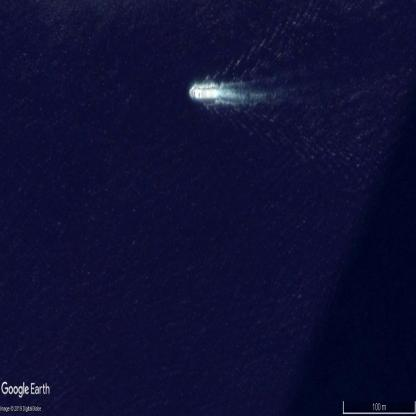ship: (190, 86, 218, 100)
